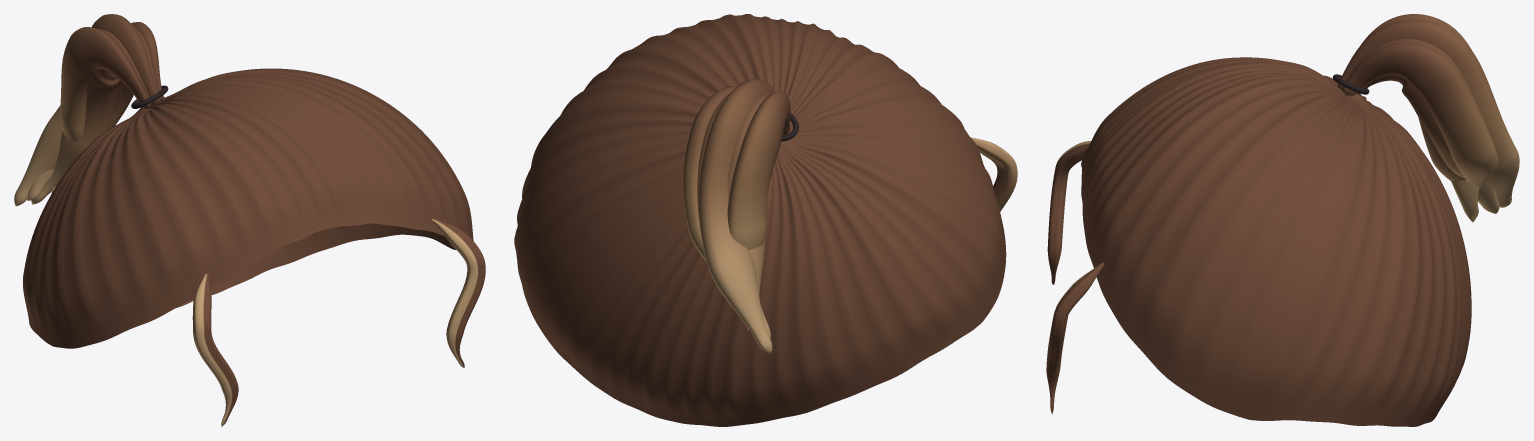
The model's file is Ombre-764dfc05363c253-hair.glb.
3 renders of one model, left to right at view 1: azimuth 30°, elevation 25°; view 2: azimuth 150°, elevation 25°; view 3: azimuth 270°, elevation 25°, orthographic. The views are drawn at different scales.
Visible parts, largest first — view 1: Hair / swept roots220, Hair / rounded tail220 0, Hair / rounded tail220 2, Hair / rounded tail220 1, Hair / adjustable front216 1, Hair / adjustable front216 -1, Hair / rounded tail220 3, Hair / rounded tail220 4; view 2: Hair / swept roots220, Hair / rounded tail220 2, Hair / rounded tail220 0, Hair / rounded tail220 4, Hair / adjustable front216 -1, Hair / rounded tail220 1, Hair / rounded tail220 3; view 3: Hair / swept roots220, Hair / rounded tail220 4, Hair / rounded tail220 2, Hair / rounded tail220 3, Hair / adjustable front216 -1, Hair / adjustable front216 1, Hair / rounded tail220 0, Hair / rounded tail220 1.
Part boxes in pixels (x1,y1,x2,y2): Hair / swept roots220: (23,68,473,348); Hair / rounded tail220 0: (60,27,150,141); Hair / rounded tail220 2: (14,14,159,206); Hair / rounded tail220 1: (31,29,152,204); Hair / adjustable front216 1: (432,218,485,367); Hair / adjustable front216 -1: (192,273,238,426); Hair / rounded tail220 3: (27,26,160,200); Hair / rounded tail220 4: (51,22,164,193); Hair / swept roots220: (514,14,1006,426); Hair / rounded tail220 2: (698,79,774,353); Hair / rounded tail220 0: (727,91,790,329); Hair / rounded tail220 4: (683,86,736,260); Hair / adjustable front216 -1: (971,137,1017,211); Hair / rounded tail220 1: (727,92,782,346); Hair / rounded tail220 3: (697,93,770,338); Hair / swept roots220: (1081,57,1471,426); Hair / rounded tail220 4: (1342,42,1494,200); Hair / rounded tail220 2: (1337,19,1519,207); Hair / rounded tail220 3: (1342,38,1498,178); Hair / adjustable front216 -1: (1047,141,1091,284); Hair / adjustable front216 1: (1046,262,1104,413); Hair / rounded tail220 0: (1361,14,1479,222); Hair / rounded tail220 1: (1418,117,1499,213).
Size of the model in its own units: 0.9675 by 0.7217 by 0.8977.
9 materials, 8 textured.
